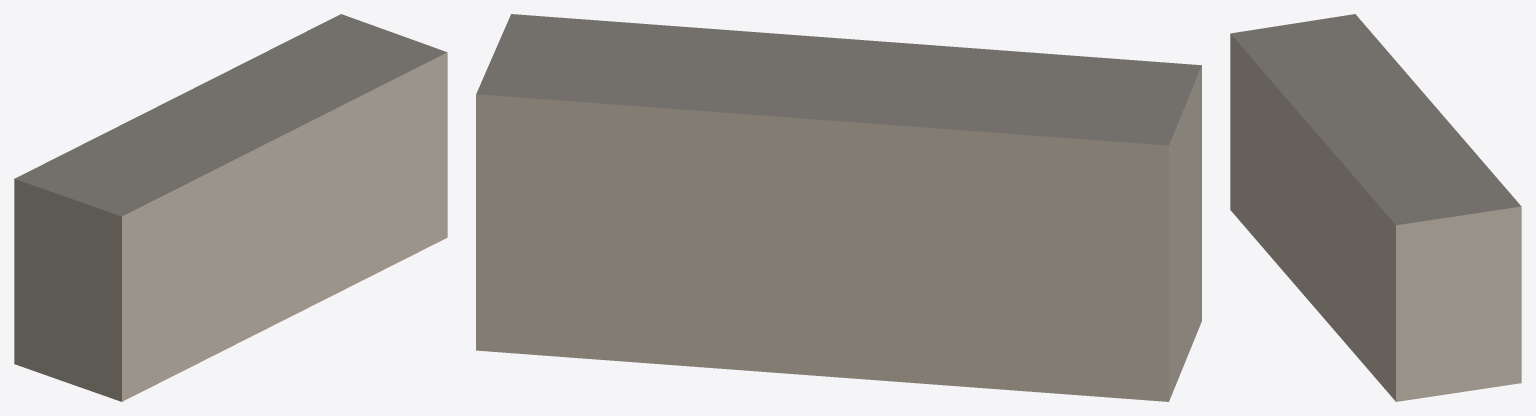
3 renders of one model, left to right at view 1: azimuth 30°, elevation 25°; view 2: azimuth 150°, elevation 25°; view 3: azimuth 270°, elevation 25°, orthographic. The views are drawn at different scales.
Visible parts, largest first — view 1: HP-w446934341; view 2: HP-w446934341; view 3: HP-w446934341.
Boxes of the visible parts, <box> form: HP-w446934341: <box>14,14,447,401</box>; HP-w446934341: <box>476,14,1201,401</box>; HP-w446934341: <box>1230,14,1521,401</box>.
Bounding box in the file's own units: 46.18 × 18 × 26.89.
